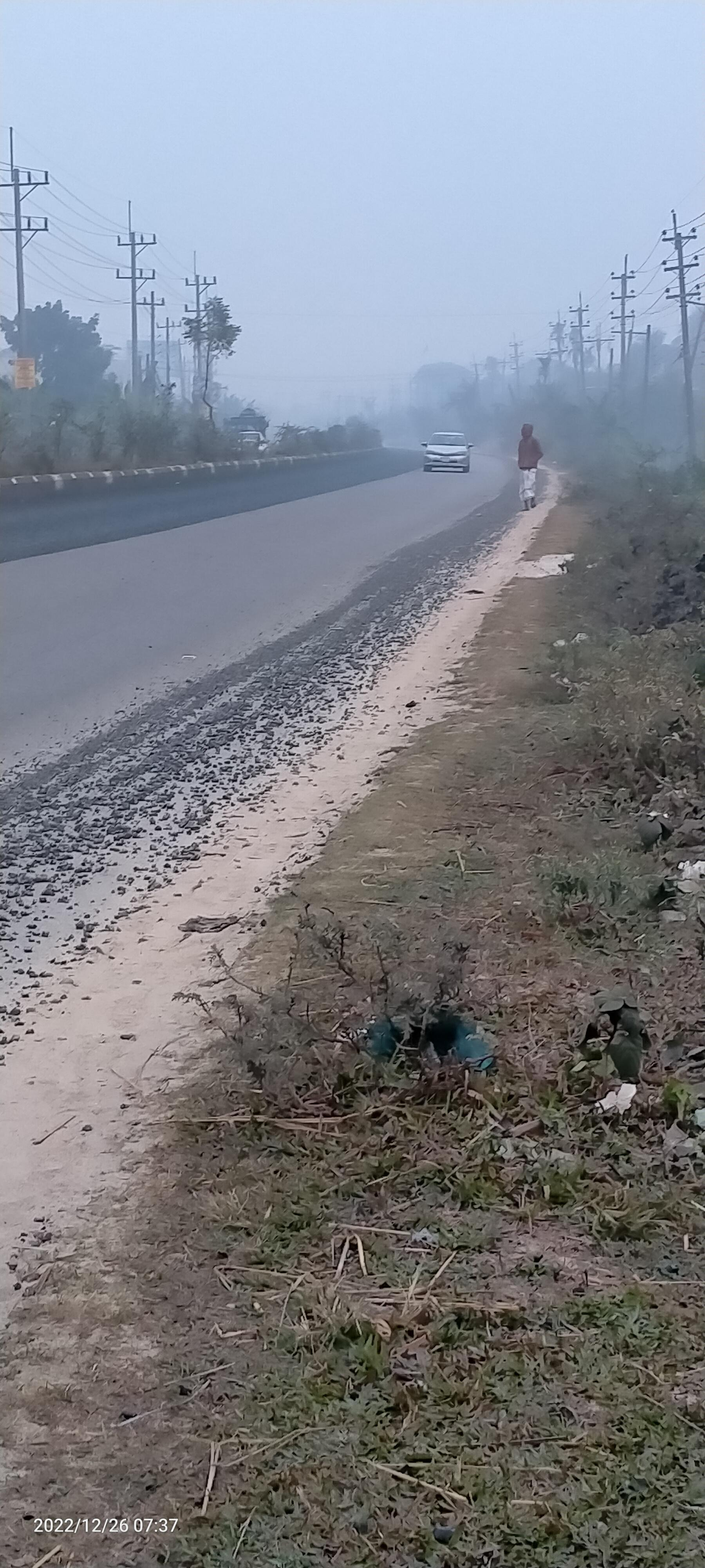Car: (416, 425, 479, 475), (233, 428, 271, 456)
Truck: (218, 402, 278, 446)
